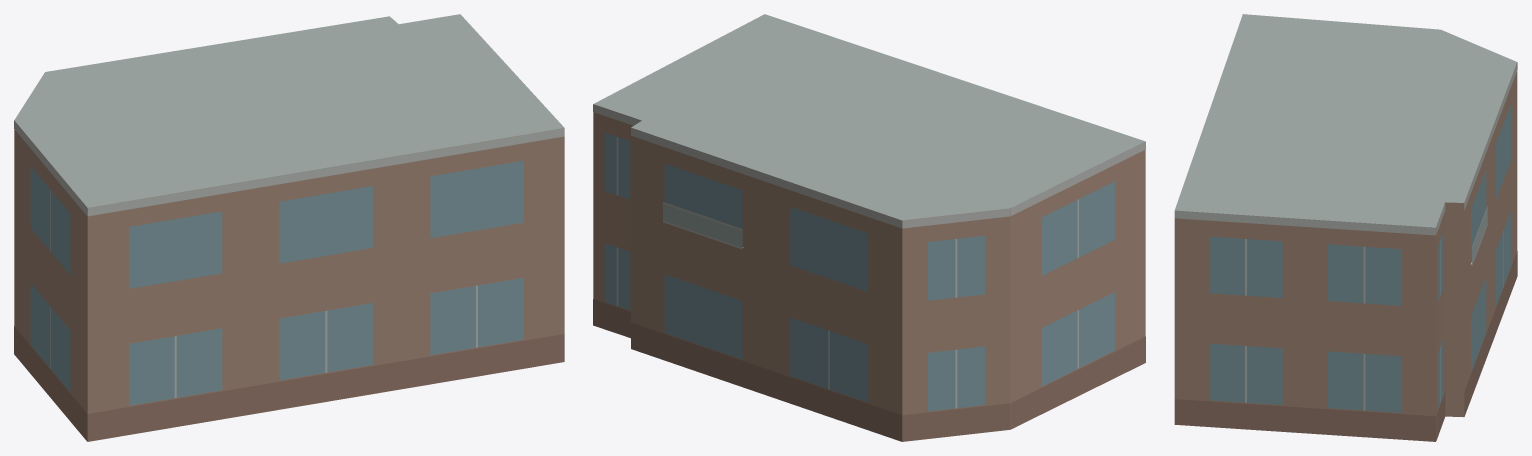
Rendered from survey-upis-32659468.glb.
3 views of the same model, side by side, from view 1: azimuth 30°, elevation 25°; view 2: azimuth 150°, elevation 25°; view 3: azimuth 270°, elevation 25° (orthographic). The views are drawn at different scales.
Visible parts, largest first — view 1: survey-upis-32659468.tmp; view 2: survey-upis-32659468.tmp; view 3: survey-upis-32659468.tmp.
Boxes of the visible parts, left/top/right/bottom form: survey-upis-32659468.tmp: left=14, top=14, right=564, bottom=441; survey-upis-32659468.tmp: left=593, top=14, right=1145, bottom=441; survey-upis-32659468.tmp: left=1174, top=14, right=1517, bottom=441.
Bounding box in the file's own units: 14.35 × 6.7 × 9.73.
